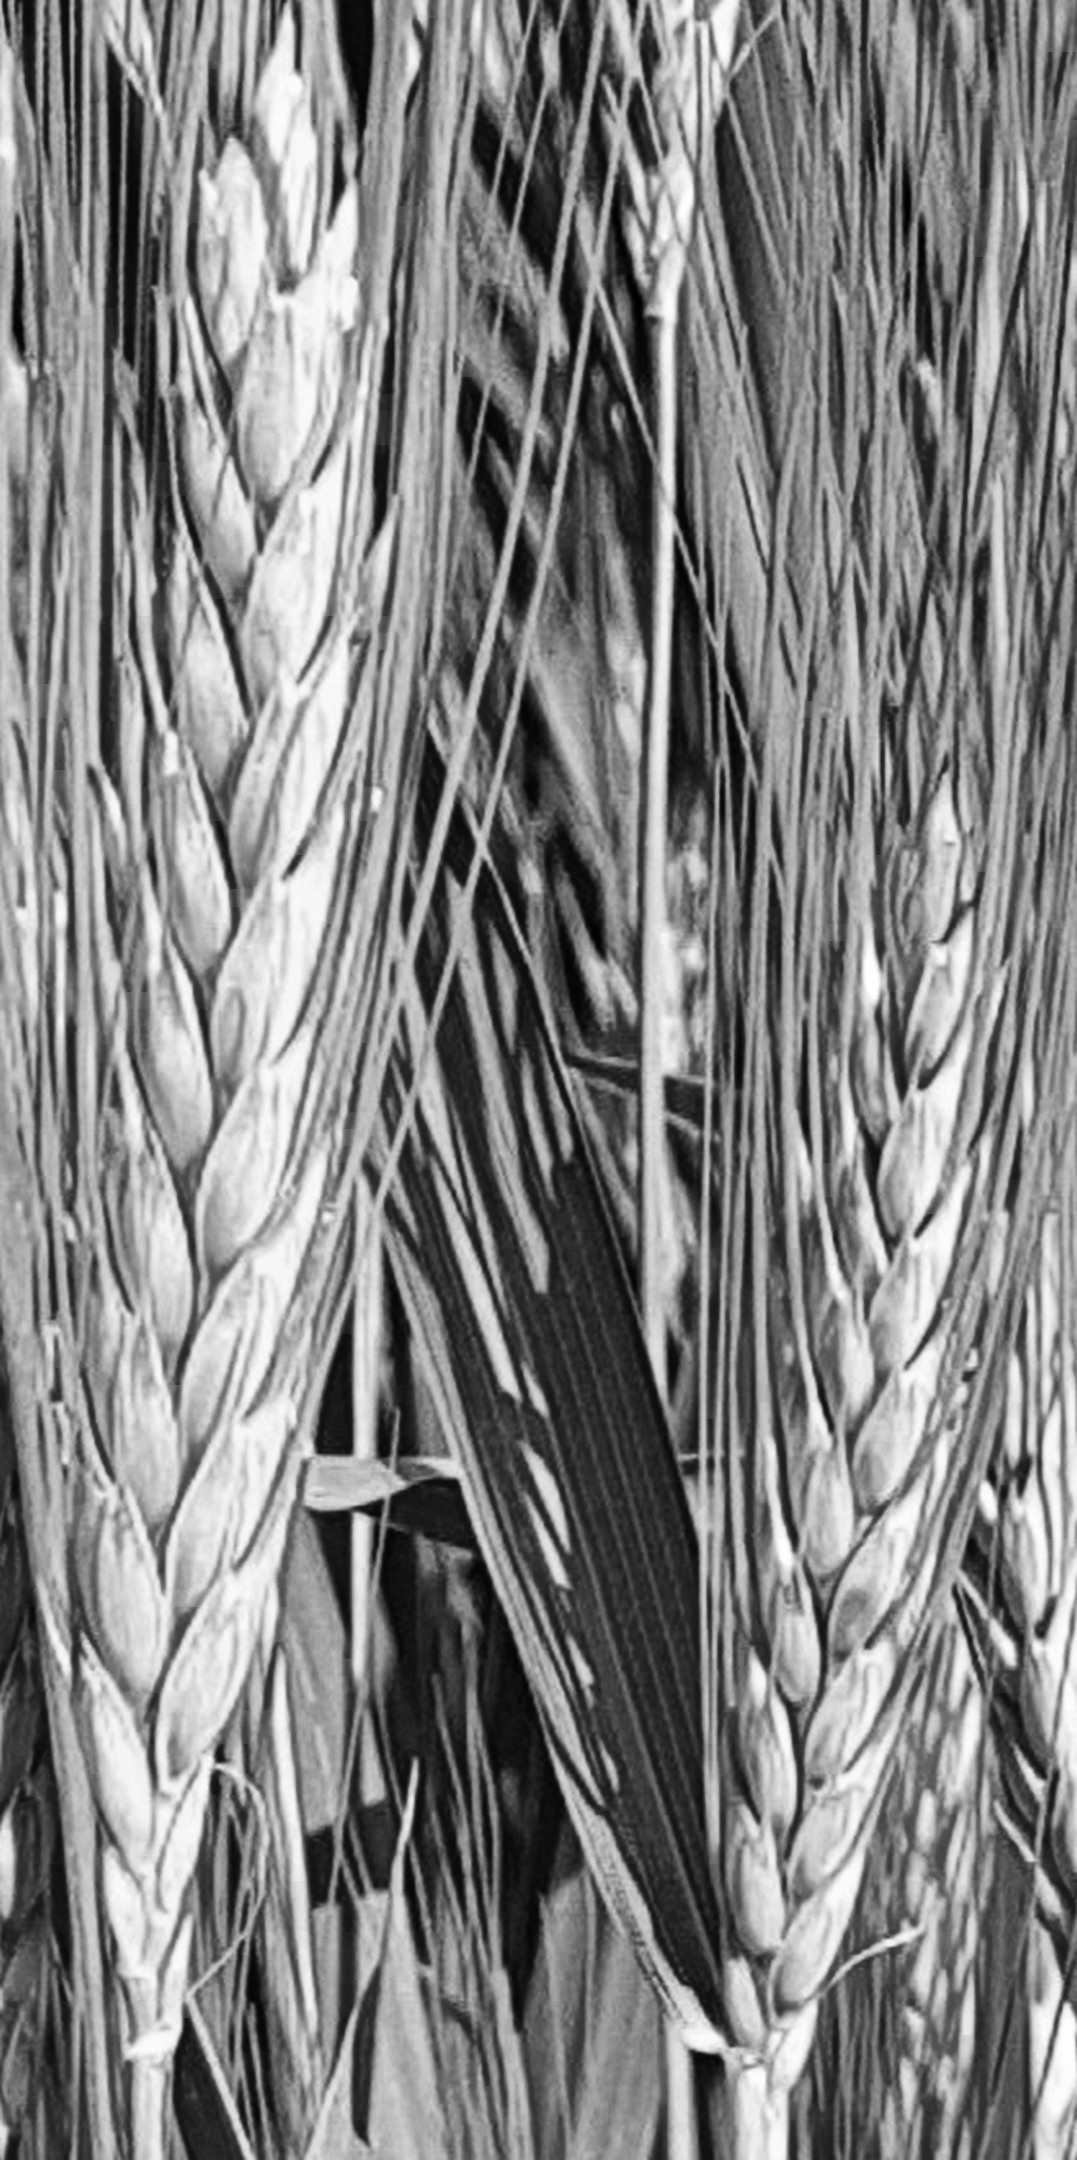Healthy Wheat: (44, 45, 439, 1891), (704, 773, 1038, 2022)
